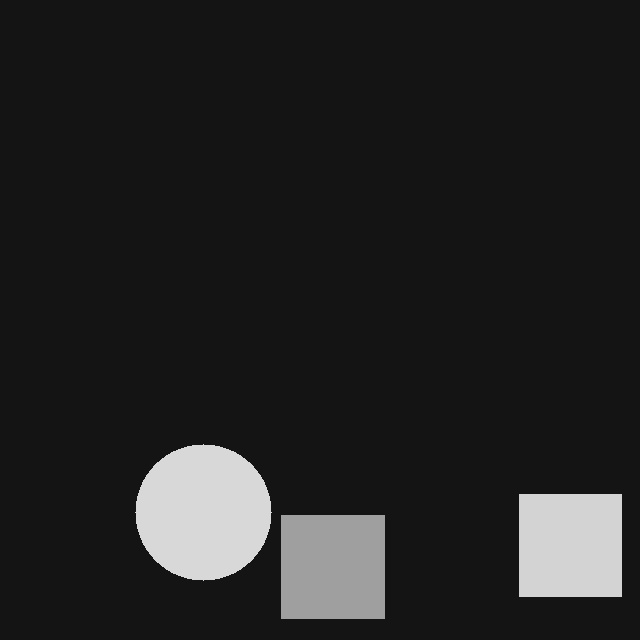circle: (135, 444, 271, 580)
square: (281, 515, 384, 618), (519, 494, 621, 596)
